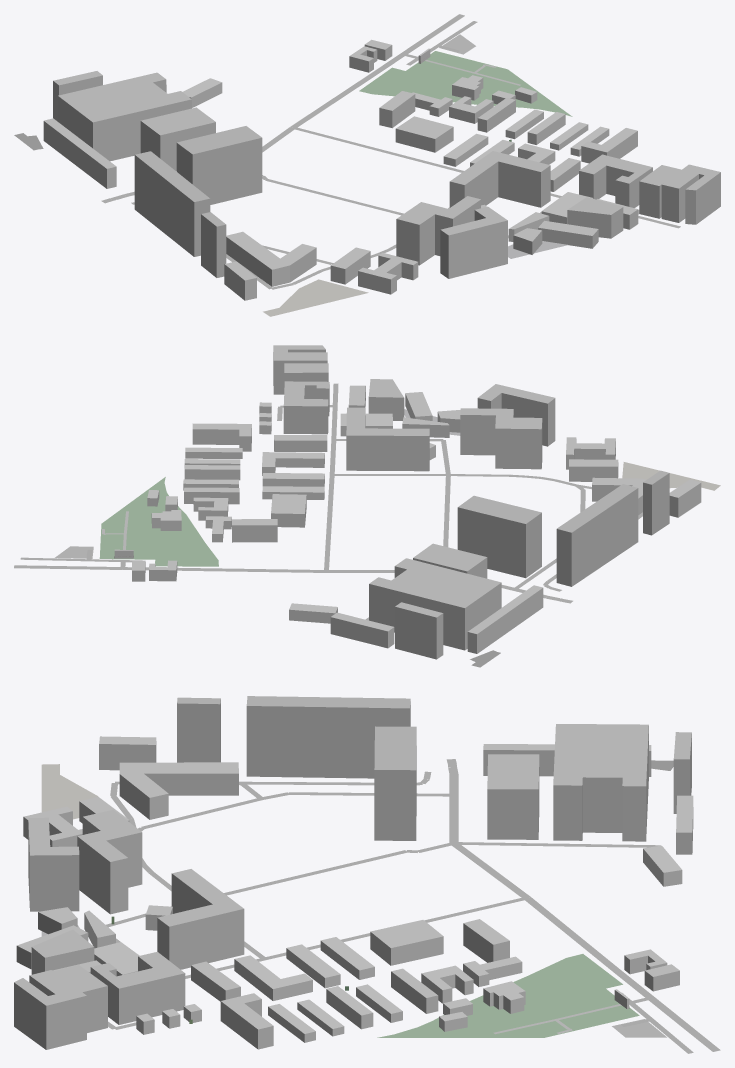
3 renders of one model, top to bottom at view 1: azimuth 30°, elevation 25°; view 2: azimuth 150°, elevation 25°; view 3: azimuth 270°, elevation 25°, orthographic. The views are drawn at different scales.
Bounding box in the file's own units: 534 × 61.66 × 544.
